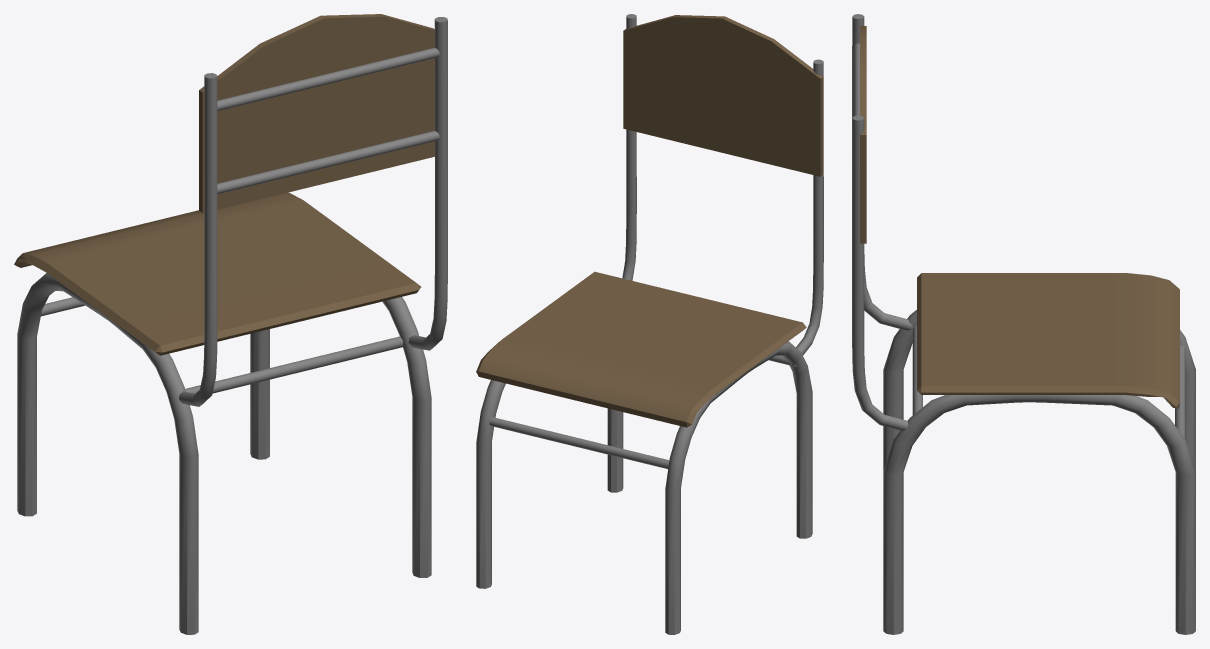
Rendered from Chair.fbx.
3 renders of one model, left to right at view 1: azimuth 30°, elevation 25°; view 2: azimuth 150°, elevation 25°; view 3: azimuth 270°, elevation 25°, orthographic. The views are drawn at different scales.
Visible parts, largest first — view 1: Chair_base, Chair_back, Chair_leg, Chair_leg1, chairbackbeam, Chairbackbeam, chairbeam2, chairbeam3, chairbeam1; view 2: Chair_base, Chair_back, Chair_leg, Chair_leg1, chairbackbeam, Chairbackbeam, chairbeam; view 3: Chair_base, Chair_leg1, Chairbackbeam, Chair_leg, Chair_back, chairbackbeam, chairbeam, chairbeam1, chairbeam3.
Part boxes in pixels (bbox=[...]): Chair_base: bbox=[14, 192, 421, 355]; Chair_back: bbox=[199, 14, 435, 213]; Chair_leg: bbox=[17, 273, 198, 634]; Chair_leg1: bbox=[250, 297, 431, 577]; chairbackbeam: bbox=[179, 73, 217, 406]; Chairbackbeam: bbox=[408, 17, 447, 350]; chairbeam2: bbox=[217, 130, 439, 194]; chairbeam3: bbox=[217, 47, 439, 111]; chairbeam1: bbox=[185, 336, 403, 393]; Chair_base: bbox=[476, 271, 806, 427]; Chair_back: bbox=[623, 15, 823, 176]; Chair_leg: bbox=[665, 341, 812, 634]; Chair_leg1: bbox=[476, 380, 623, 588]; chairbackbeam: bbox=[796, 59, 823, 355]; Chairbackbeam: bbox=[622, 14, 636, 280]; chairbeam: bbox=[489, 417, 669, 468]; Chair_base: bbox=[917, 273, 1179, 408]; Chair_leg1: bbox=[883, 395, 1195, 634]; Chairbackbeam: bbox=[852, 115, 908, 431]; Chair_leg: bbox=[883, 310, 1195, 471]; Chair_back: bbox=[860, 26, 866, 243]; chairbackbeam: bbox=[852, 14, 912, 330]; chairbeam: bbox=[1175, 345, 1185, 438]; chairbeam1: bbox=[912, 326, 922, 414]; chairbeam3: bbox=[853, 43, 859, 115].
Size of the model in its own units: 1.59 by 3.4 by 1.97.
